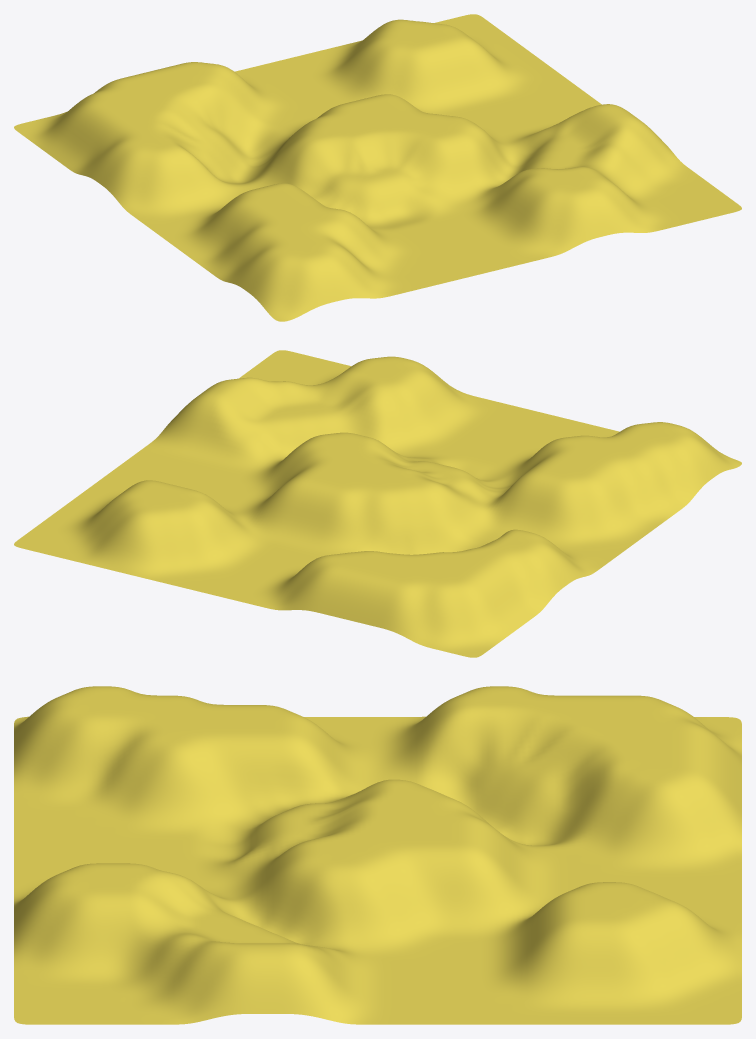
Rendered from test_island.glb.
3 views of the same model, one above another, from view 1: azimuth 30°, elevation 25°; view 2: azimuth 150°, elevation 25°; view 3: azimuth 270°, elevation 25° (orthographic). The views are drawn at different scales.
Visible parts, largest first — view 1: Plane-col; view 2: Plane-col; view 3: Plane-col.
Part boxes in pixels (left/top/right/bottom): Plane-col: left=14, top=14, right=741, bottom=321; Plane-col: left=14, top=350, right=741, bottom=657; Plane-col: left=14, top=686, right=741, bottom=1024.
Size of the model in its own units: 20 by 2.14 by 20.
